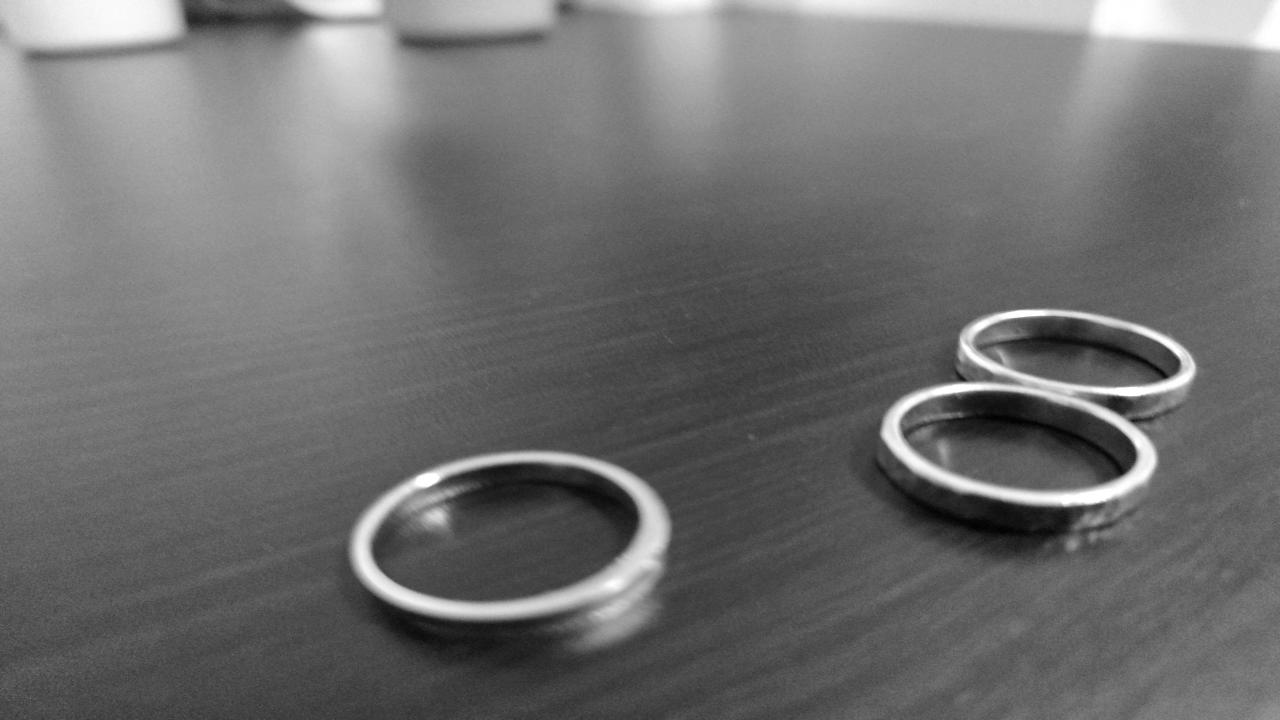ring: (344, 448, 672, 638), (874, 379, 1168, 535), (952, 307, 1203, 423)
